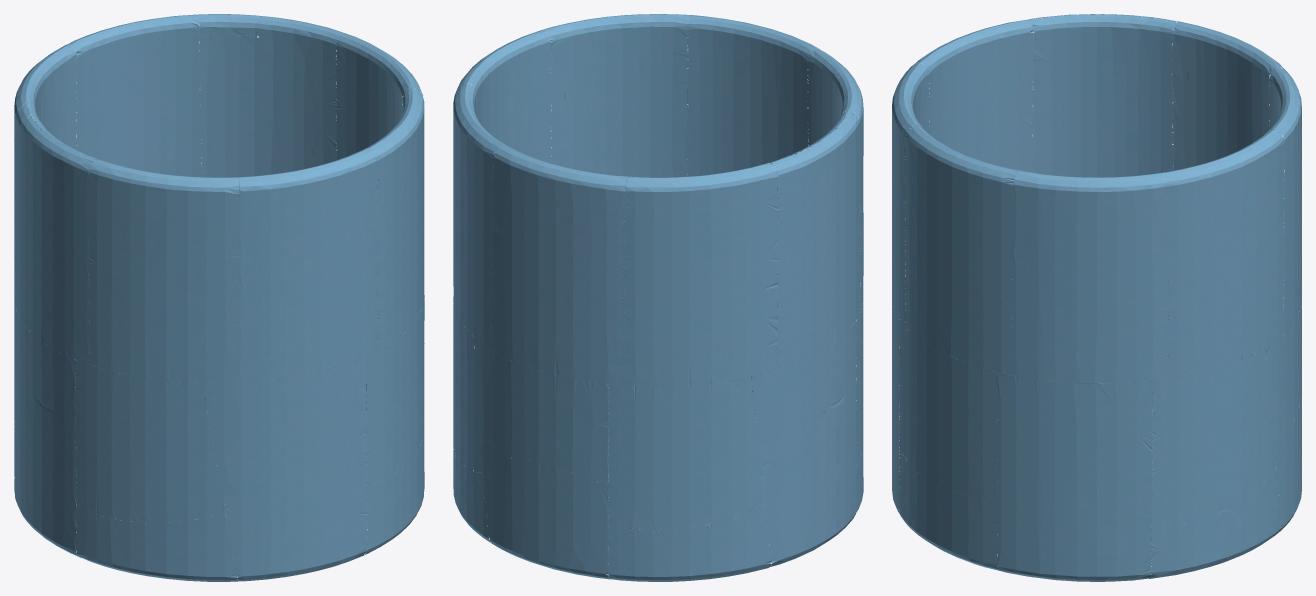
Rendered from my_prop.glb.
The picture shows the model from 3 angles, left to right: view 1: azimuth 30°, elevation 25°; view 2: azimuth 150°, elevation 25°; view 3: azimuth 270°, elevation 25°; orthographic projection.
Parts seen in each view (by area): view 1: tripo_node_b5da1aaa-ca21-462e-9dee-2c141dc0d507; view 2: tripo_node_b5da1aaa-ca21-462e-9dee-2c141dc0d507; view 3: tripo_node_b5da1aaa-ca21-462e-9dee-2c141dc0d507.
Boxes of the visible parts, x1,y1,x2,y2 form: tripo_node_b5da1aaa-ca21-462e-9dee-2c141dc0d507: [14, 14, 424, 581]; tripo_node_b5da1aaa-ca21-462e-9dee-2c141dc0d507: [453, 14, 863, 581]; tripo_node_b5da1aaa-ca21-462e-9dee-2c141dc0d507: [892, 14, 1301, 581].
Bounding box in the file's own units: 0.9221 × 1 × 0.9209.
Materials: 1 (1 with a texture image).
